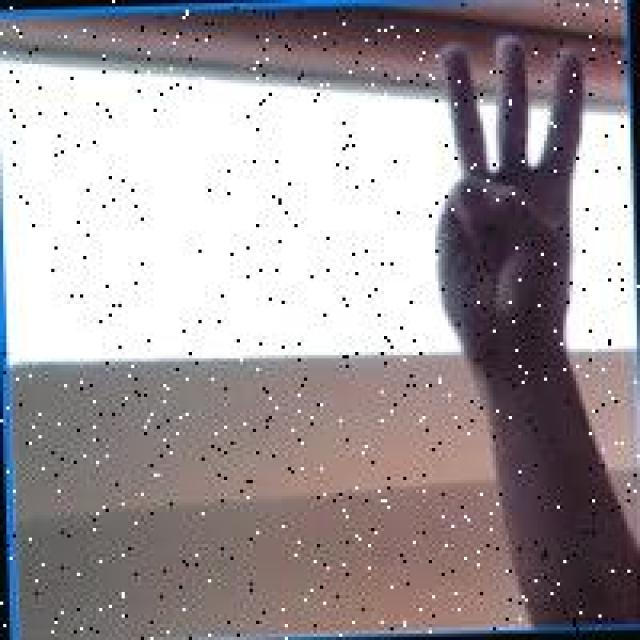W: (418, 29, 596, 352)
